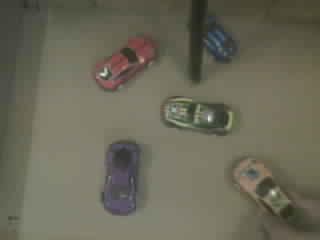Car: (236, 158, 291, 216), (95, 37, 153, 88), (161, 96, 234, 135), (104, 141, 137, 214), (204, 20, 235, 61)
